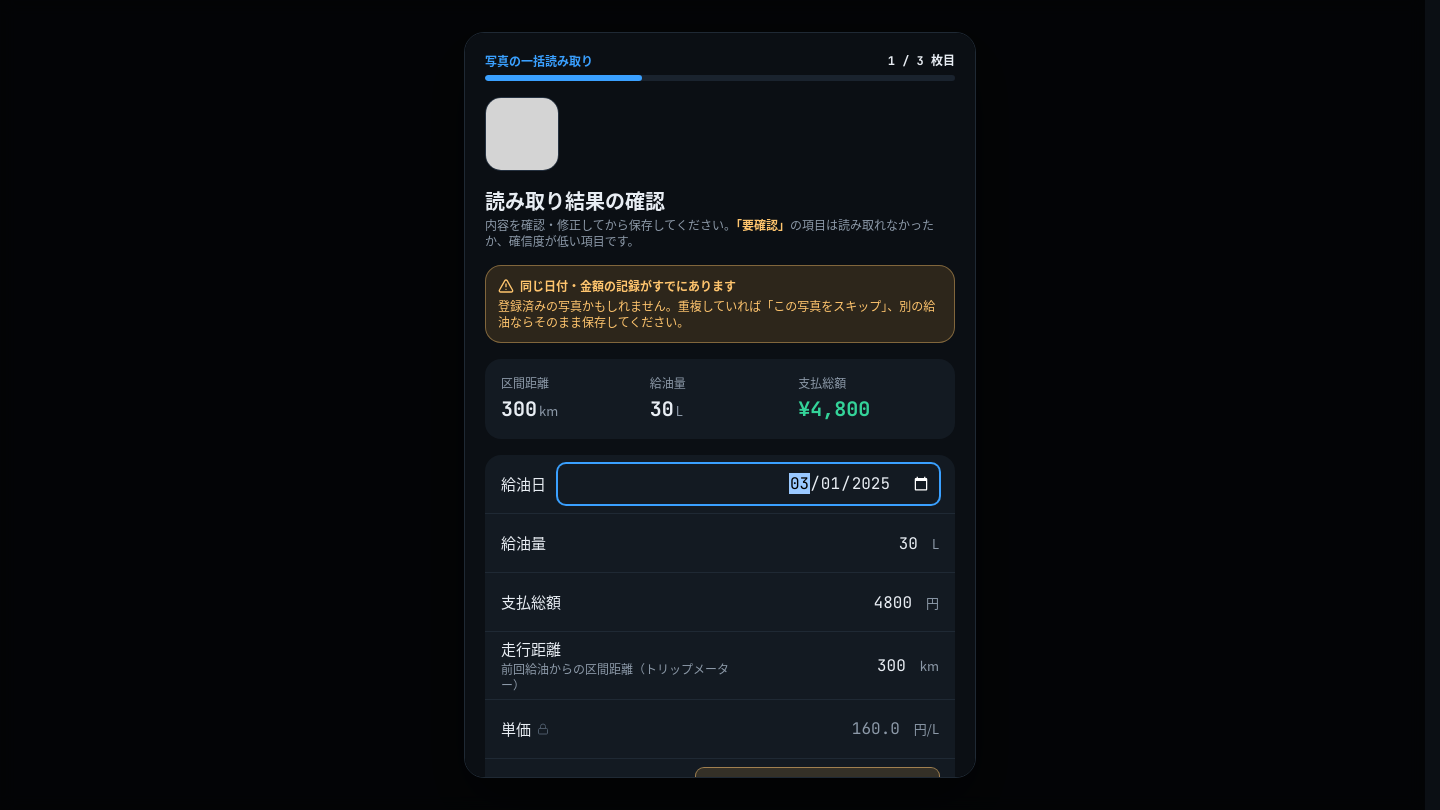
it: ScanReviewSheet（一括読み取り） › 同じ日付・金額の記録がすでにあれば注意を出す（入力を直せば消える）
The image size is (1440, 810).
Expected: the text "同じ日付・金額の記録がすでにあります" is shown, [498,277,736,294]
Replace the text in the field named "支払総額 (円)" with "4900" at (746, 602), box [573,582,920,622]
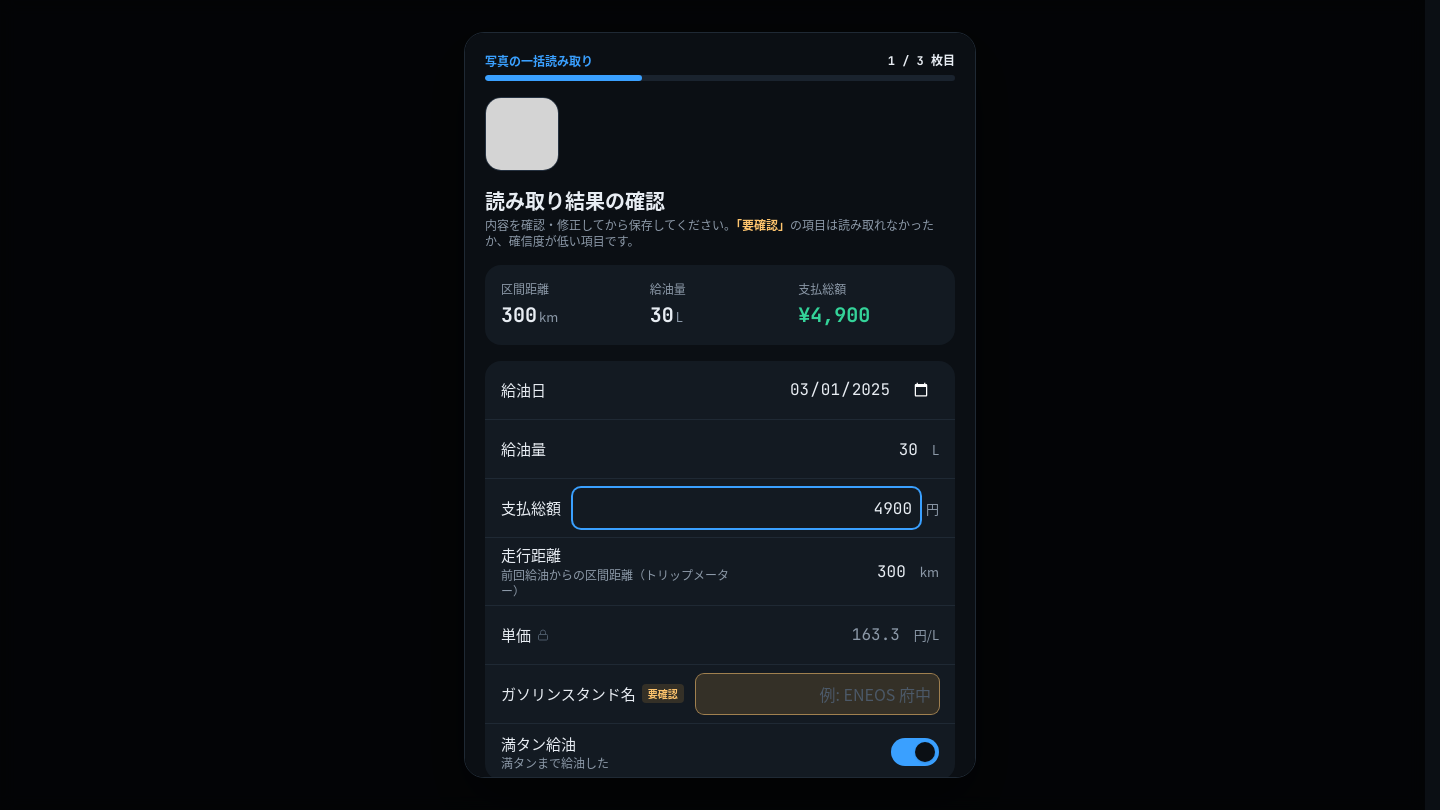
Result: the text "同じ日付・金額の記録がすでにあります" is gone
